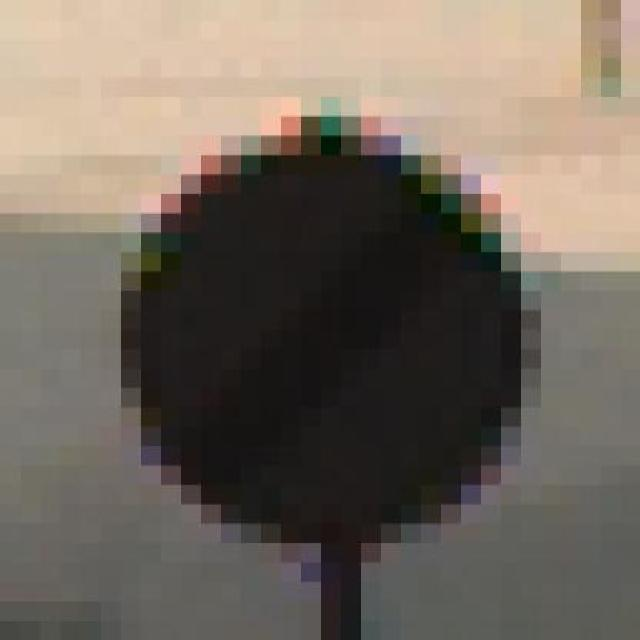End of all speed and passing limits: (60, 97, 560, 563)
